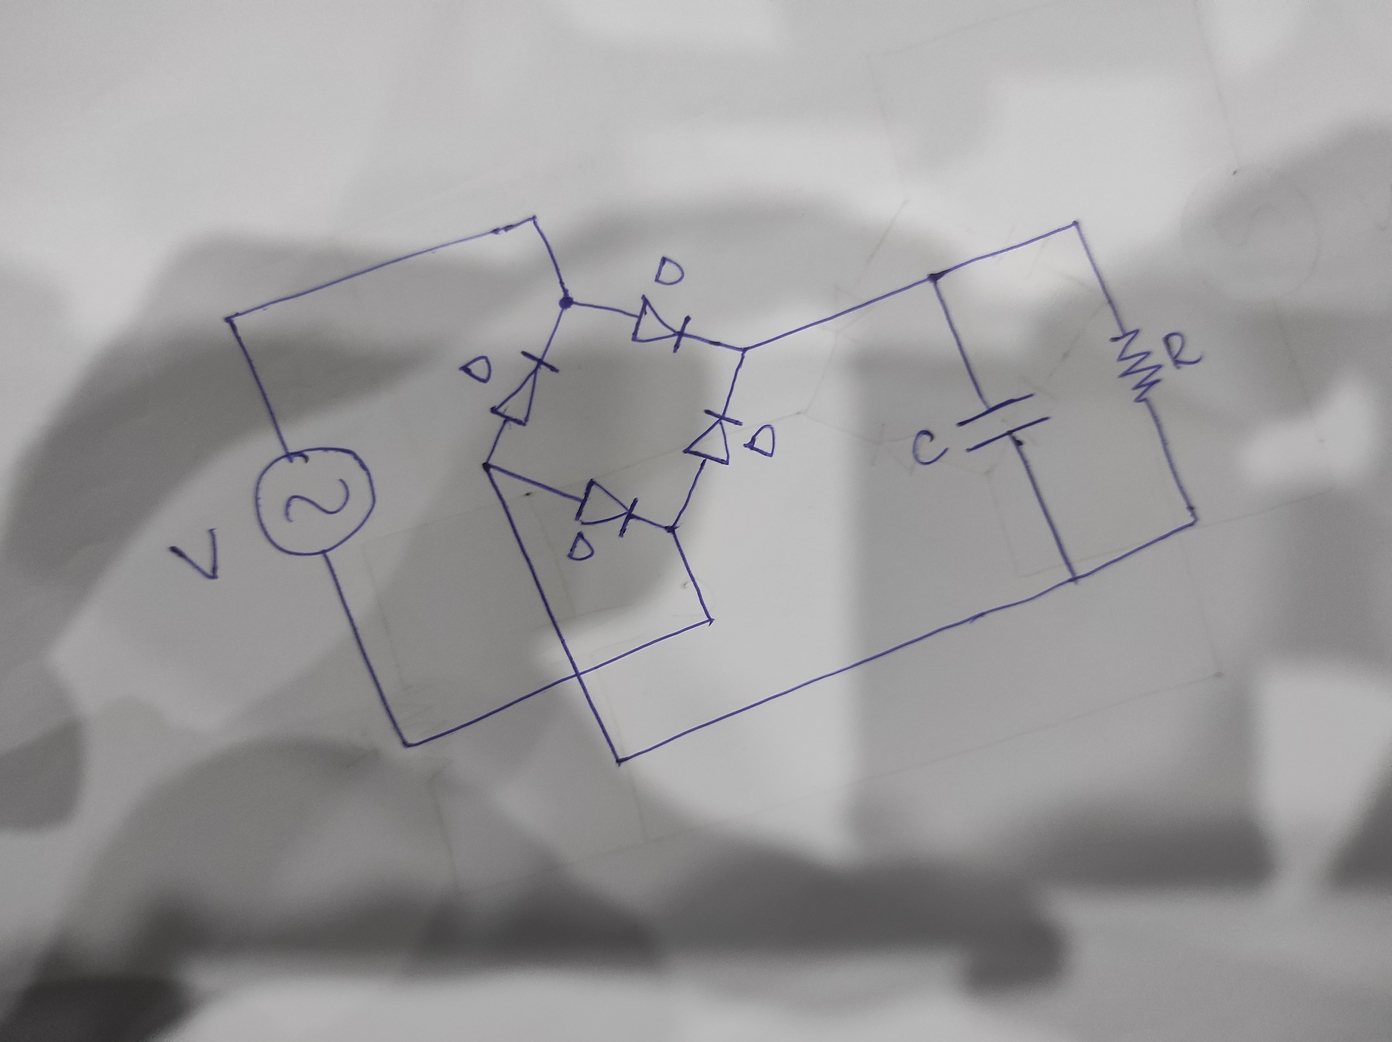capacitor.unpolarized: (952, 389, 1053, 458)
crossover: (567, 665, 585, 682)
diode: (487, 349, 561, 430), (571, 477, 640, 540), (627, 294, 693, 358), (678, 406, 743, 467)
junction: (390, 729, 424, 757), (553, 289, 581, 316), (474, 454, 498, 477), (920, 267, 946, 288), (732, 340, 756, 361), (661, 517, 683, 539), (218, 309, 242, 328), (1060, 568, 1084, 587), (1065, 215, 1086, 235), (520, 211, 543, 228), (1183, 511, 1202, 529), (700, 612, 717, 628), (611, 753, 625, 768)
resistor: (1107, 326, 1164, 405)
text: (165, 525, 220, 582), (1160, 328, 1205, 372), (908, 426, 950, 467), (742, 422, 778, 460), (562, 529, 598, 565), (459, 352, 497, 384), (652, 253, 686, 287)
voltage.dc_ac: (247, 443, 379, 559)
